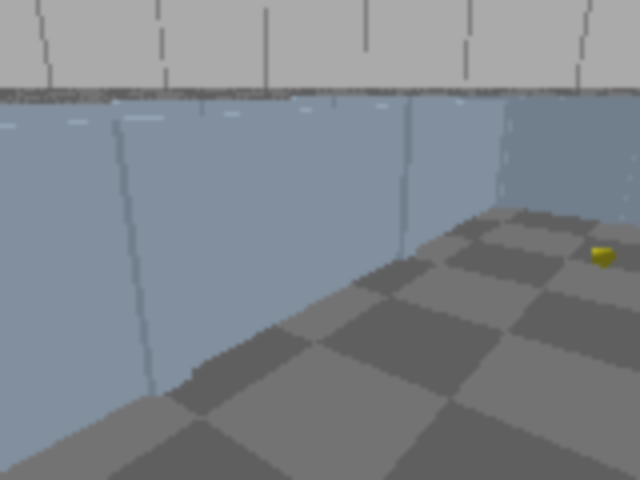puck: (585, 242, 621, 271)
